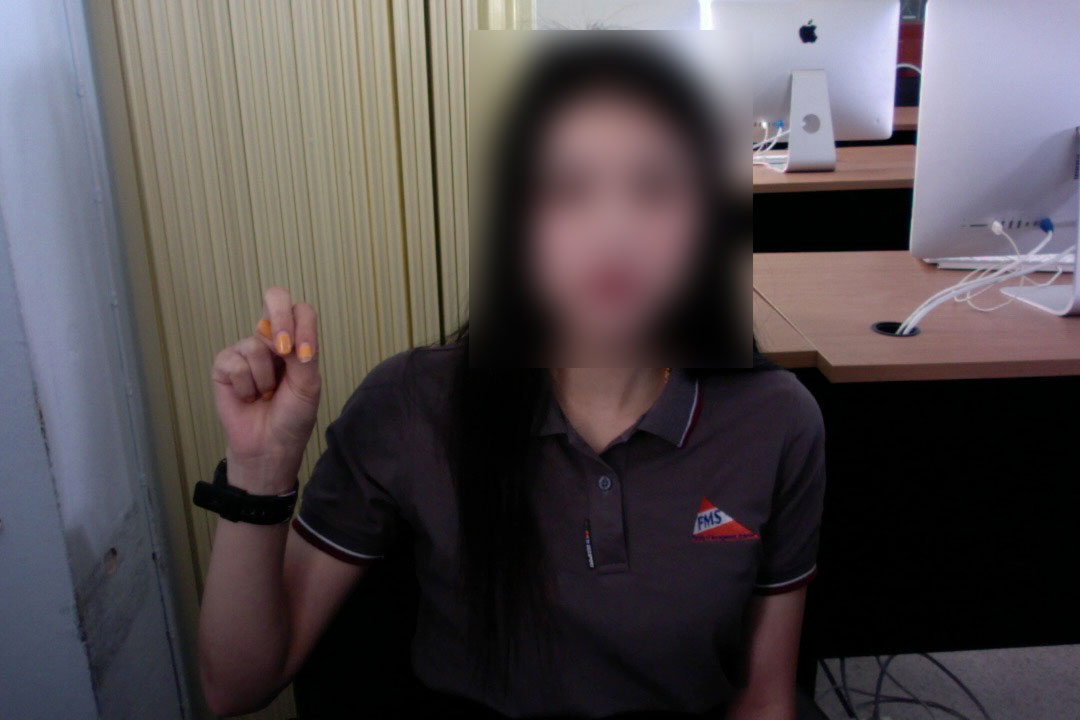nor: (208, 281, 329, 475)
